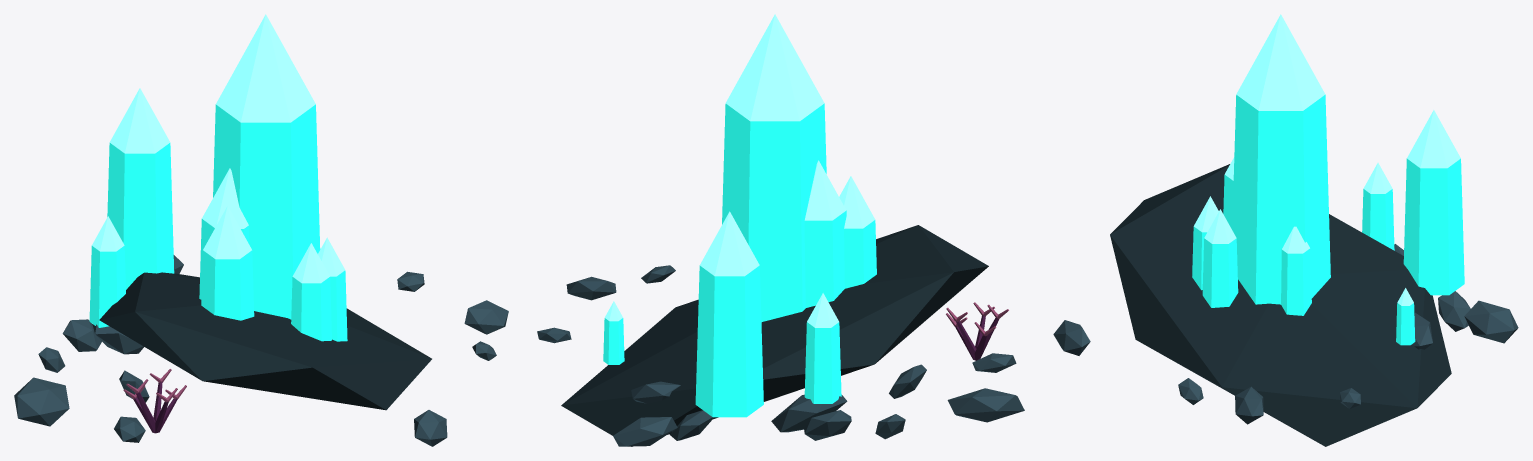
Rendered from 02_crystal_cluster.glb.
The picture shows the model from 3 angles, left to right: view 1: azimuth 30°, elevation 25°; view 2: azimuth 150°, elevation 25°; view 3: azimuth 270°, elevation 25°; orthographic projection. The views are drawn at different scales.
Parts seen in each view (by area): view 1: CrystalBed, CrystalPrism, CrystalPrism.006, CrystalTip, CrystalPrism.012, CrystalPrism.001, CrystalTip.006, CrystalPrism.002, BrokenStone.017, CrystalTip.012, CrystalTip.004, CrystalPrism.010 (+9 smaller); view 2: CrystalBed, CrystalPrism, CrystalPrism.006, CrystalTip, CrystalPrism.004, CrystalPrism.001, CrystalTip.006, CrystalPrism.012, BrokenStone.017, CrystalTip.004, BrokenStone.020, BrokenStone.012 (+10 smaller); view 3: CrystalBed, CrystalPrism, CrystalPrism.006, CrystalTip, CrystalPrism.010, CrystalPrism.008, CrystalTip.006, CrystalPrism.001, BrokenStone.020, BrokenStone.022, BrokenStone.014, BrokenStone.024 (+8 smaller).
Boxes of the visible parts, bbox=[...] form: CrystalBed: bbox=[99, 272, 431, 410]; CrystalPrism: bbox=[213, 104, 320, 319]; CrystalPrism.006: bbox=[107, 143, 174, 289]; CrystalTip: bbox=[216, 14, 315, 122]; CrystalPrism.012: bbox=[201, 250, 254, 320]; CrystalPrism.001: bbox=[89, 246, 125, 327]; CrystalTip.006: bbox=[109, 88, 170, 153]; CrystalPrism.002: bbox=[291, 277, 331, 341]; BrokenStone.017: bbox=[14, 377, 69, 426]; CrystalTip.012: bbox=[203, 206, 251, 259]; CrystalTip.004: bbox=[202, 168, 248, 228]; CrystalPrism.010: bbox=[330, 270, 347, 341]; CrystalBed: bbox=[561, 225, 988, 446]; CrystalPrism: bbox=[722, 103, 826, 322]; CrystalPrism.006: bbox=[695, 265, 763, 417]; CrystalTip: bbox=[725, 14, 824, 121]; CrystalPrism.004: bbox=[804, 210, 846, 307]; CrystalPrism.001: bbox=[804, 322, 841, 403]; CrystalTip.006: bbox=[700, 211, 759, 276]; CrystalPrism.012: bbox=[844, 220, 876, 288]; BrokenStone.017: bbox=[947, 388, 1024, 422]; CrystalTip.004: bbox=[804, 160, 846, 220]; BrokenStone.020: bbox=[613, 417, 677, 446]; BrokenStone.012: bbox=[771, 394, 847, 432]; CrystalBed: bbox=[1110, 164, 1451, 446]; CrystalPrism: bbox=[1232, 94, 1330, 304]; CrystalPrism.006: bbox=[1403, 158, 1464, 295]; CrystalTip: bbox=[1236, 14, 1325, 110]; CrystalPrism.010: bbox=[1202, 238, 1238, 307]; CrystalPrism.008: bbox=[1281, 248, 1311, 315]; CrystalTip.006: bbox=[1407, 110, 1460, 168]; CrystalPrism.001: bbox=[1362, 189, 1394, 250]; BrokenStone.020: bbox=[1464, 300, 1518, 343]; BrokenStone.022: bbox=[1438, 291, 1470, 331]; BrokenStone.014: bbox=[1053, 320, 1090, 355]; BrokenStone.024: bbox=[1235, 386, 1263, 424].
Bounding box in the file's own units: 8.21 × 6.73 × 7.77.
6 materials, 6 textured.
